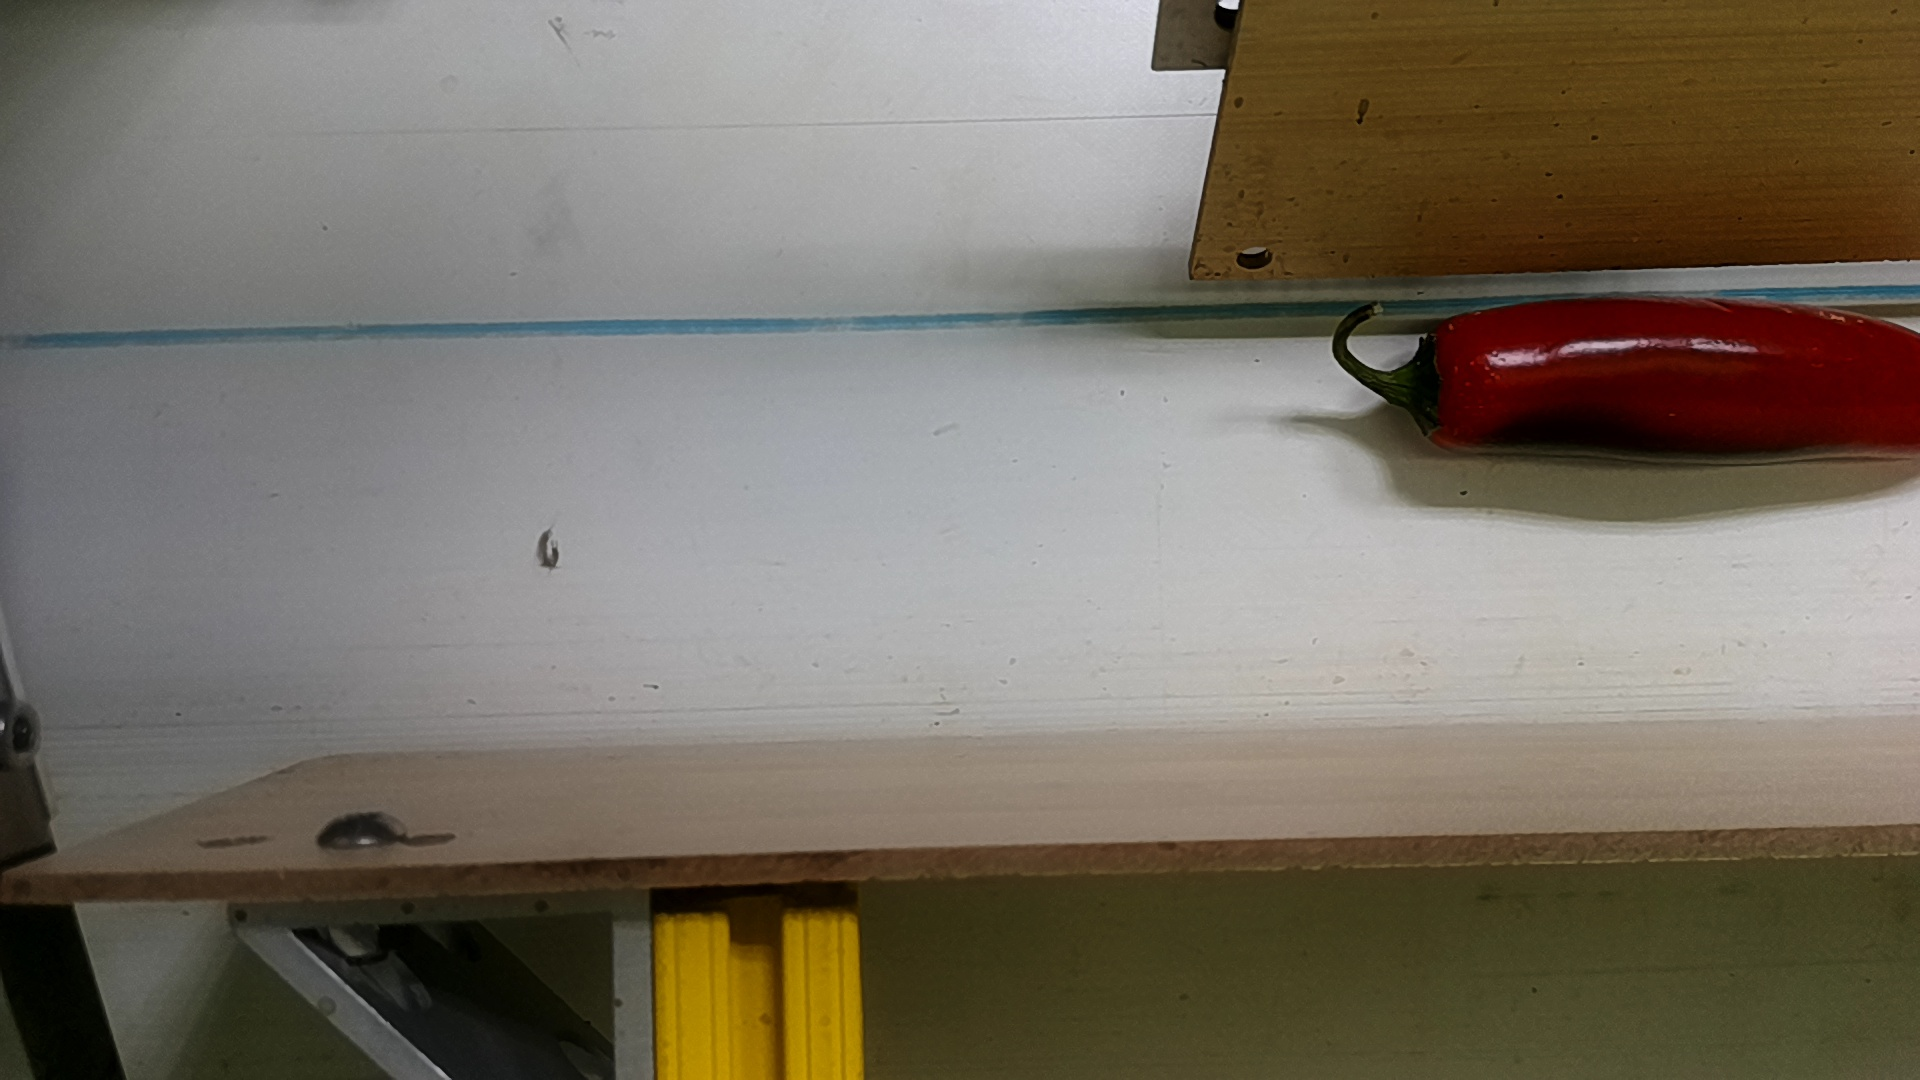Cut Point: (1394, 307, 1484, 460)
